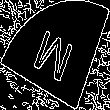M_SW: (31, 22, 79, 88)
